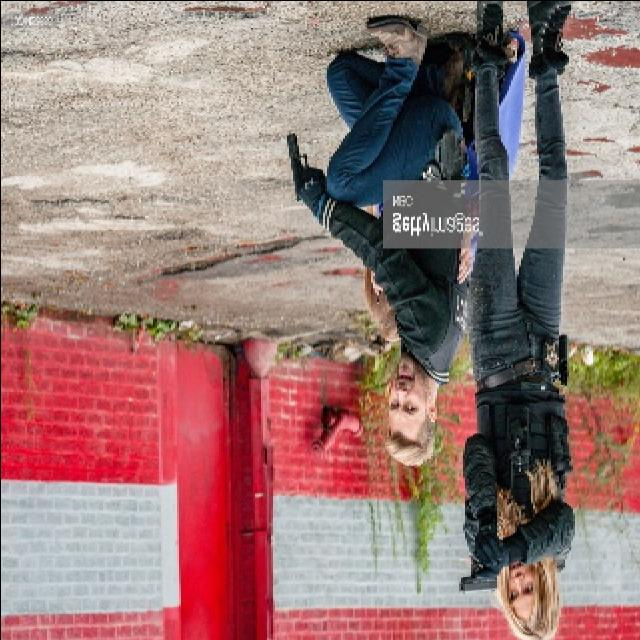handgun: (281, 135, 311, 203), (455, 556, 501, 596)
